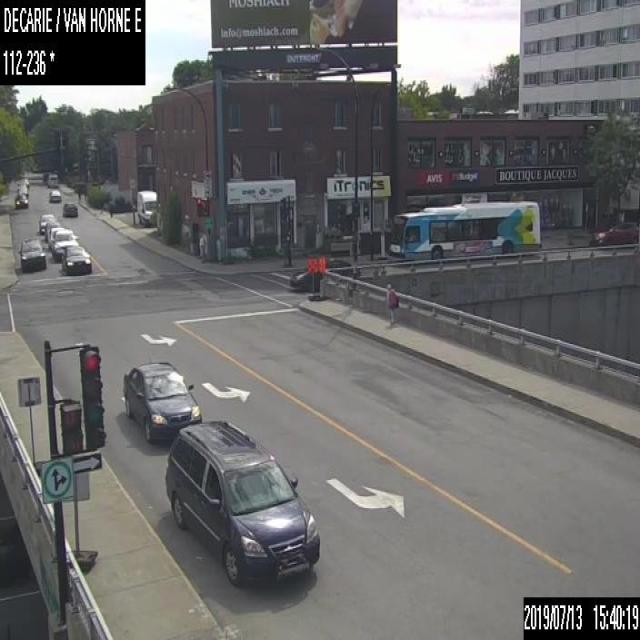bus: (389, 200, 539, 259)
construction: (62, 469, 97, 569), (14, 375, 45, 476), (305, 255, 318, 301), (318, 255, 327, 301)
pedestrian: (384, 282, 399, 326)
vehicle: (165, 419, 320, 584), (122, 362, 201, 442), (288, 257, 359, 291), (591, 217, 639, 244), (62, 244, 91, 275), (20, 237, 44, 272), (52, 229, 79, 259), (136, 189, 156, 227), (38, 213, 56, 234), (47, 226, 63, 249), (44, 221, 61, 242), (62, 201, 78, 216), (14, 193, 27, 208), (47, 172, 58, 187), (49, 189, 60, 201)
